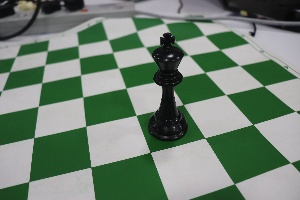black_king: (140, 22, 194, 148)
